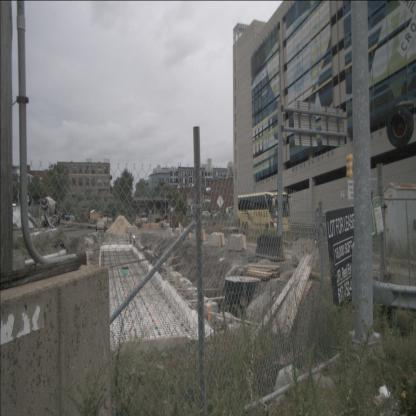vehicle-bus-rigid: (237, 192, 290, 240)
